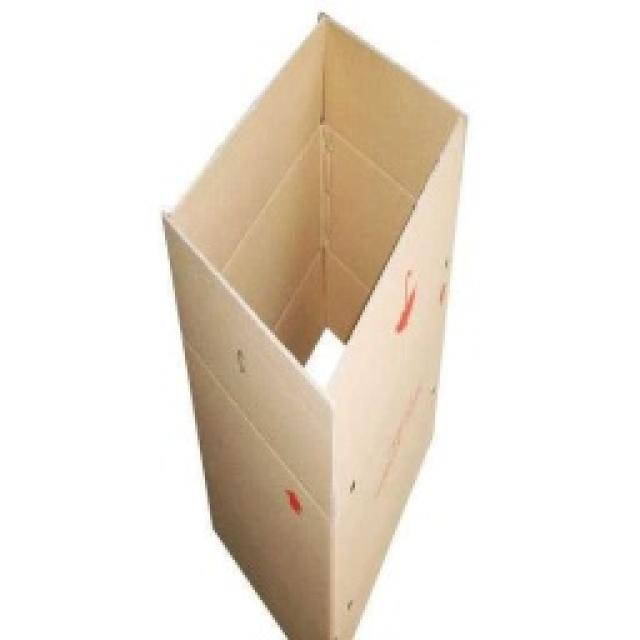box: (122, 15, 482, 640)
